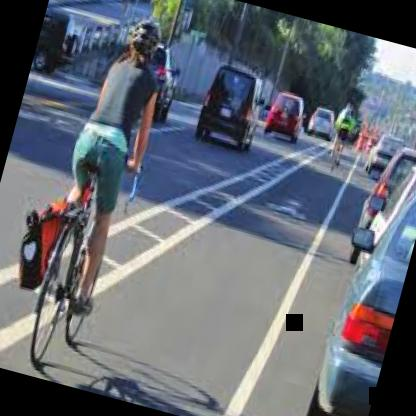car: (284, 173, 416, 416), (178, 49, 276, 173), (260, 74, 313, 158), (300, 95, 344, 156)
